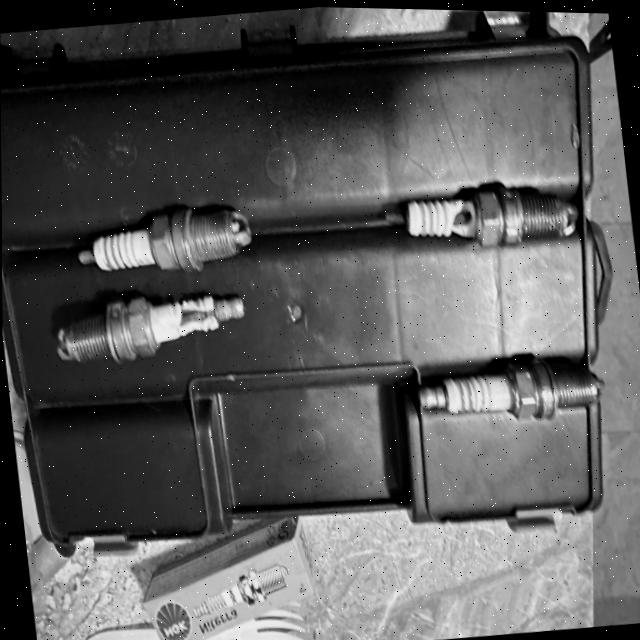damaged_spark-plug: (46, 283, 264, 379), (377, 166, 584, 263)
spark-plug: (409, 344, 601, 435), (69, 197, 260, 288)
